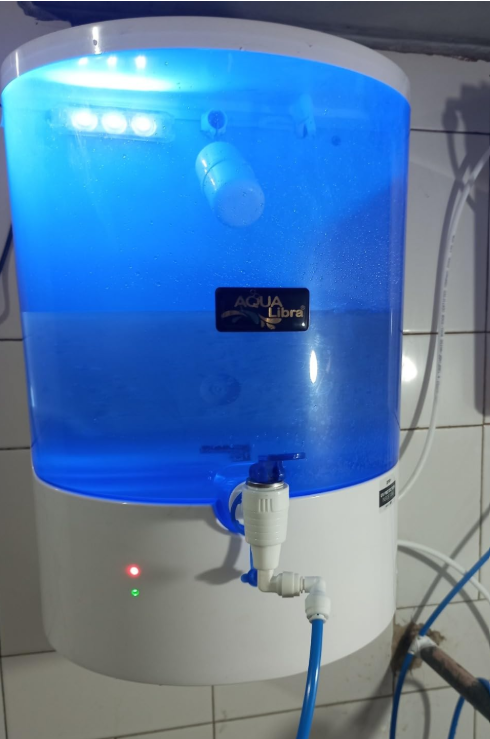water purifier: (0, 23, 425, 700)
